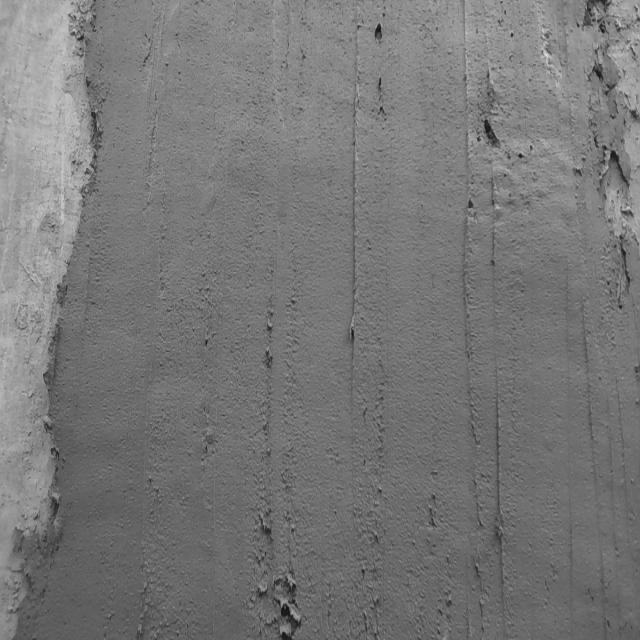trowels marks: (460, 14, 476, 473), (349, 24, 363, 420), (493, 365, 511, 640), (488, 160, 501, 320)
